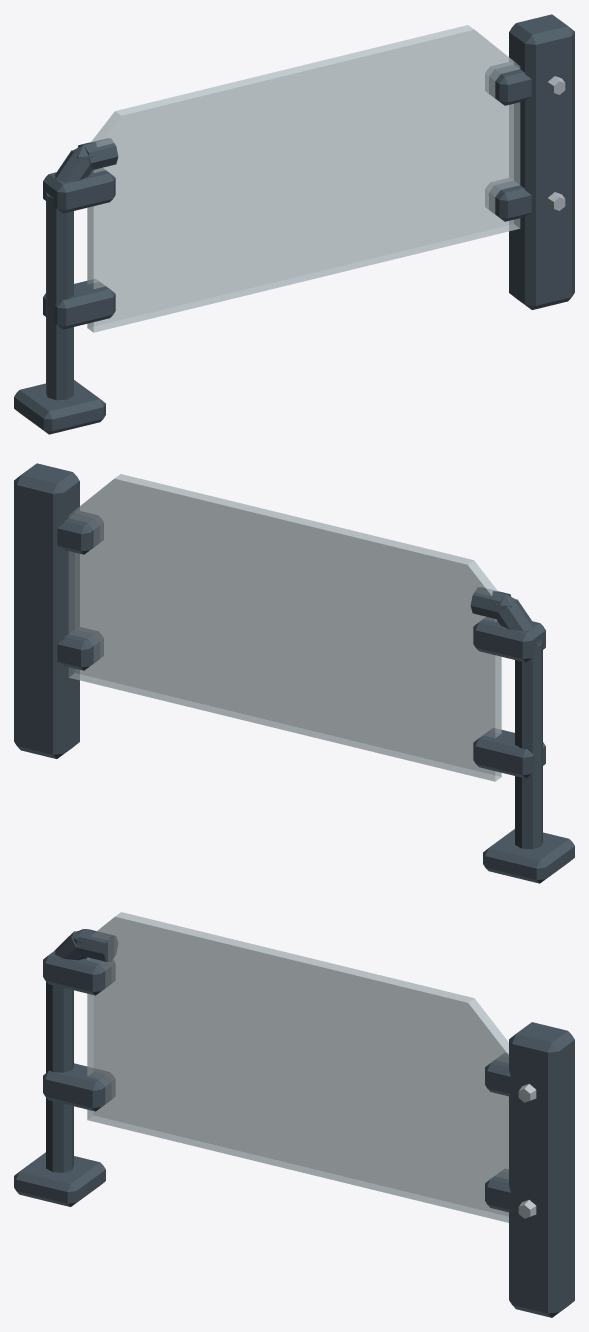
Rendered from Station_Shield.fbx.
The picture shows the model from 3 angles, top to bottom: view 1: azimuth 30°, elevation 25°; view 2: azimuth 150°, elevation 25°; view 3: azimuth 330°, elevation 25°; orthographic projection.
Visible parts, largest first — view 1: Glass, Frame, SteelLight; view 2: Glass, Frame; view 3: Glass, Frame, SteelLight.
Boxes of the visible parts, x1,y1,x2,y2 form: Glass: (87, 25, 520, 332); Frame: (14, 14, 574, 434); SteelLight: (547, 76, 565, 210); Glass: (68, 474, 501, 781); Frame: (14, 463, 574, 883); Glass: (87, 912, 508, 1222); Frame: (14, 929, 574, 1317); SteelLight: (518, 1084, 536, 1218).
Size of the model in its own units: 3.89 by 2 by 0.45.
